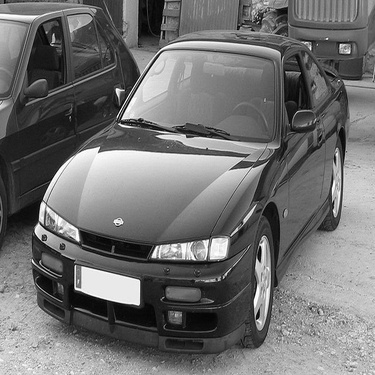car: (26, 27, 354, 362), (2, 1, 144, 235)
